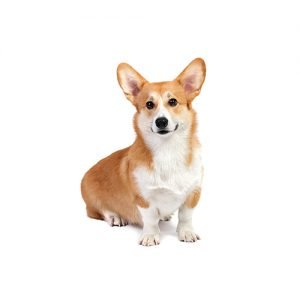corgi: (78, 54, 217, 254)
